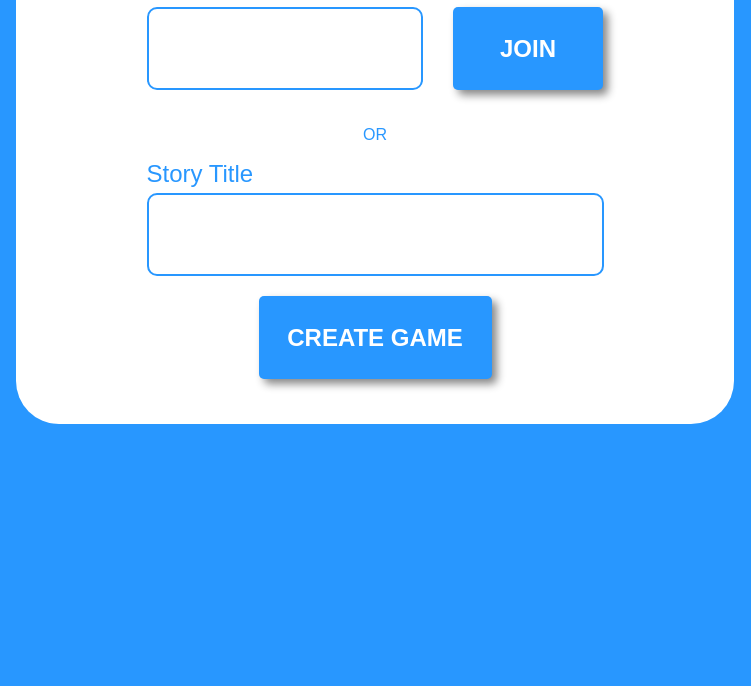
Test: Landing page › should validate the name field when the CREATE GAME button is clicked
This screenshot has width=751, height=686.
(page scrolled)
Click the button "CREATE GAME" at (375, 338), box [258,296,492,379]
(page scrolled)
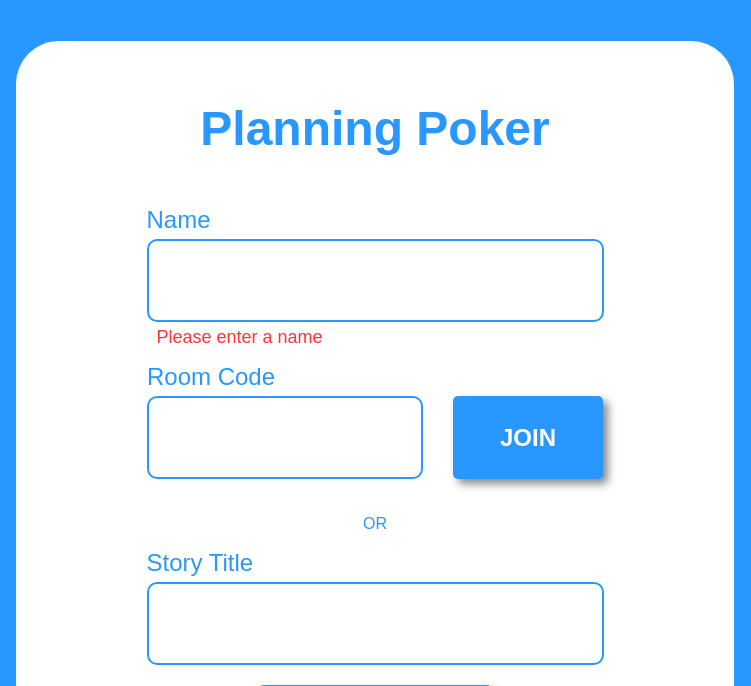
Result: the text "Please enter a name" is shown at [146,327,323,348]
